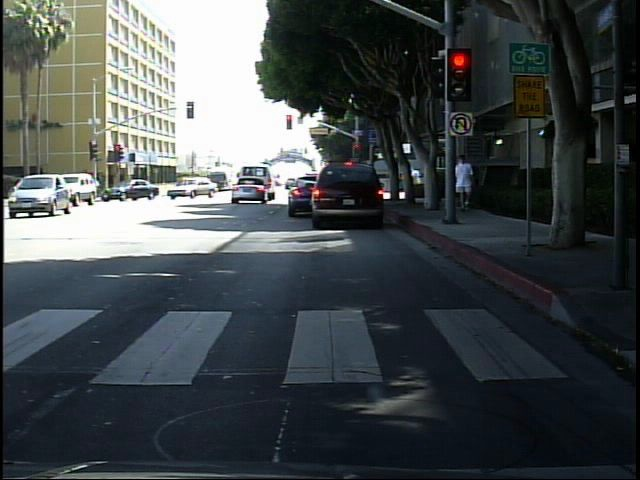person: (452, 150, 478, 216), (85, 171, 103, 202)
